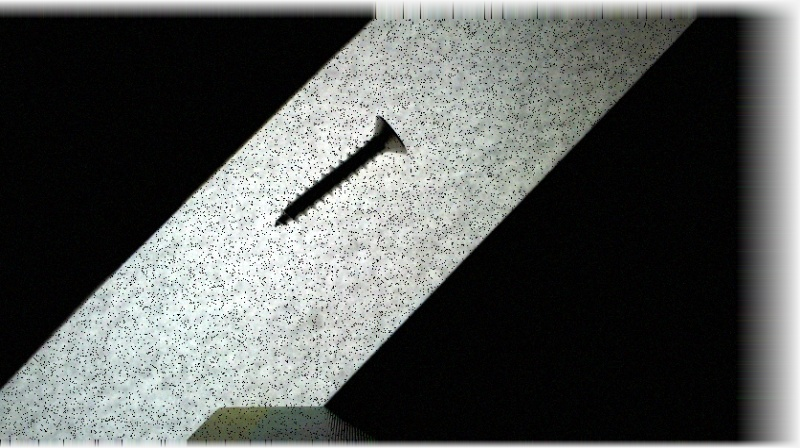S001: (269, 113, 409, 229)
